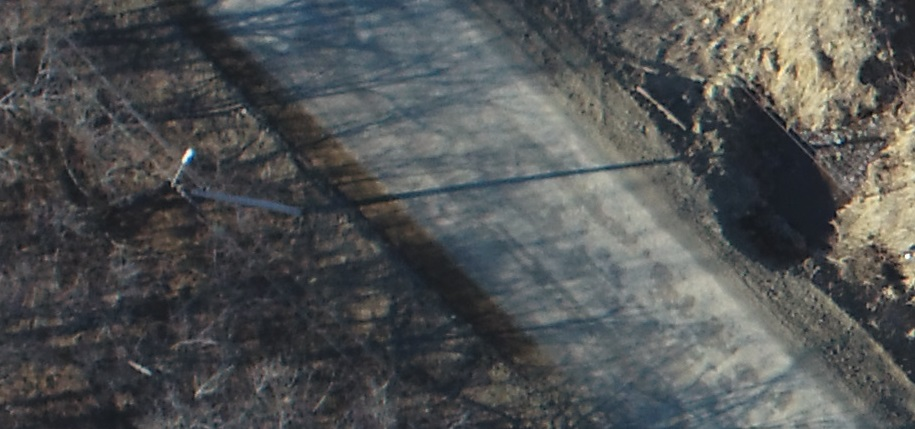opora: (164, 139, 337, 229)
